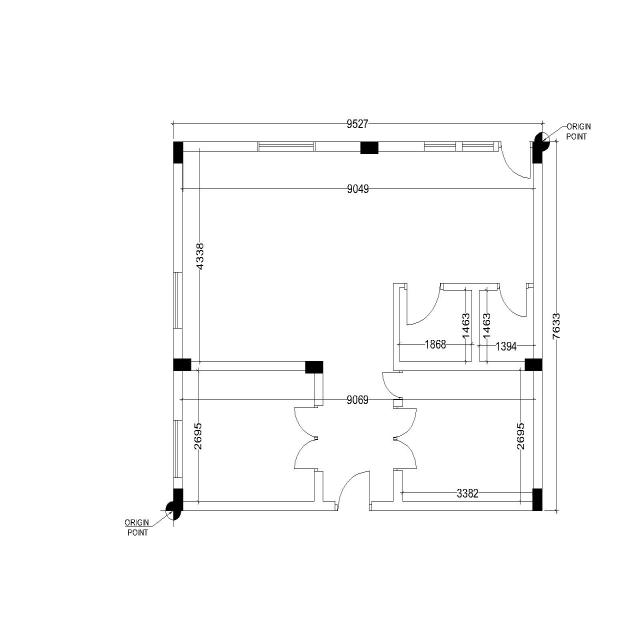Column: (174, 358, 192, 371), (173, 141, 183, 164), (525, 358, 542, 371), (532, 142, 542, 164), (532, 489, 542, 511), (173, 489, 183, 511), (306, 361, 324, 373), (361, 142, 378, 154)
Door: (403, 281, 445, 327), (334, 469, 373, 512), (498, 140, 532, 180), (496, 282, 529, 318), (381, 370, 404, 400)
Double-Door: (293, 404, 325, 473), (392, 406, 418, 472)
Window: (256, 140, 317, 152), (172, 419, 184, 480), (172, 271, 184, 330), (461, 140, 495, 154), (423, 140, 457, 153)
